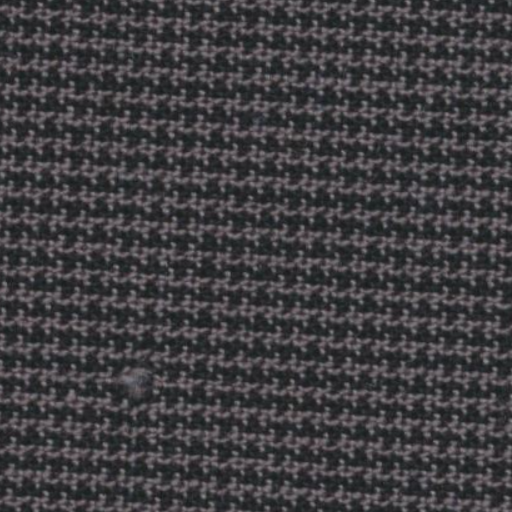PoDong: (96, 340, 177, 423)
